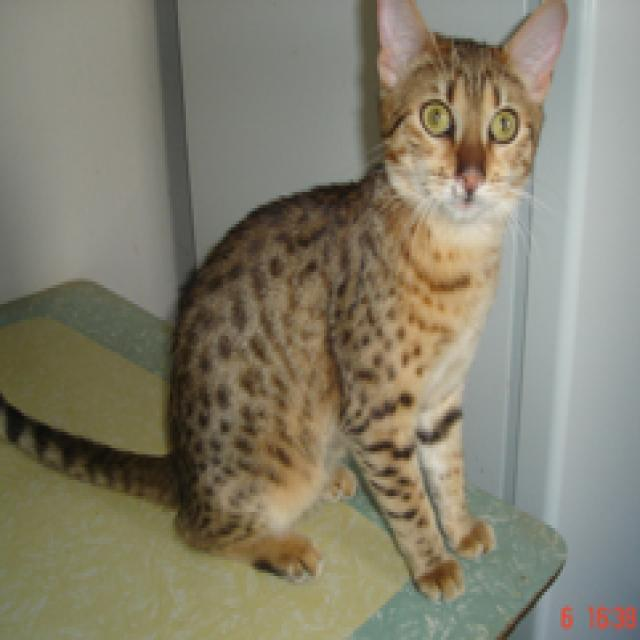Egyptian_Mau: (372, 0, 563, 227)
